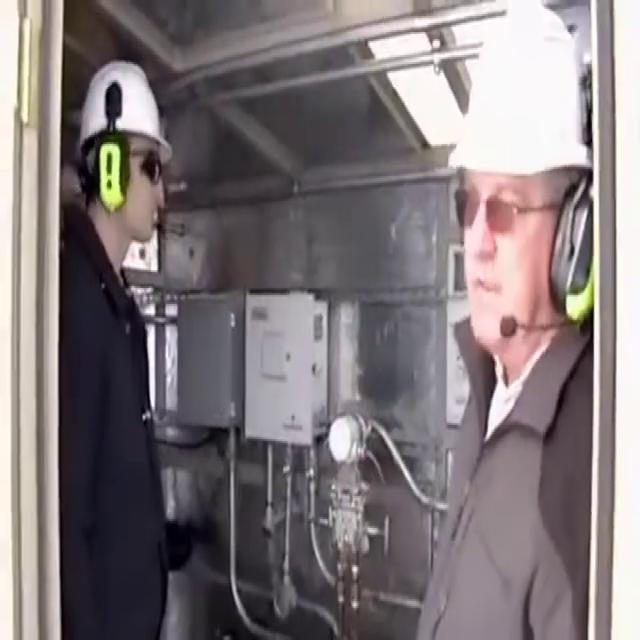earmuff: (546, 174, 605, 332), (92, 122, 132, 218)
glasses: (448, 178, 568, 245), (122, 141, 167, 188)
helmet: (436, 0, 603, 189), (75, 54, 176, 174)
